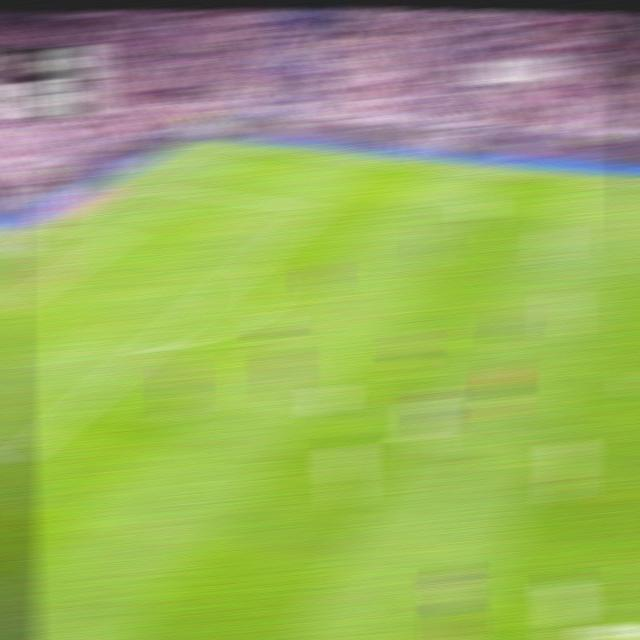bigarea_bottom_inner: (0, 447, 26, 472)
bigarea_top_inner: (301, 200, 327, 215)
bigarea_top_outter: (122, 178, 147, 189)
bottom_arc_area_intersection: (133, 339, 163, 359)
corner: (193, 137, 221, 147)
smallarea_top_inner: (109, 231, 133, 242)
top_arc_area_intersection: (235, 254, 263, 272)
